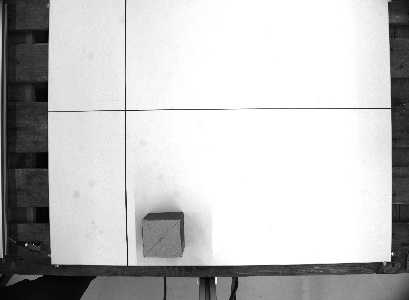b7: (137, 208, 188, 260)
